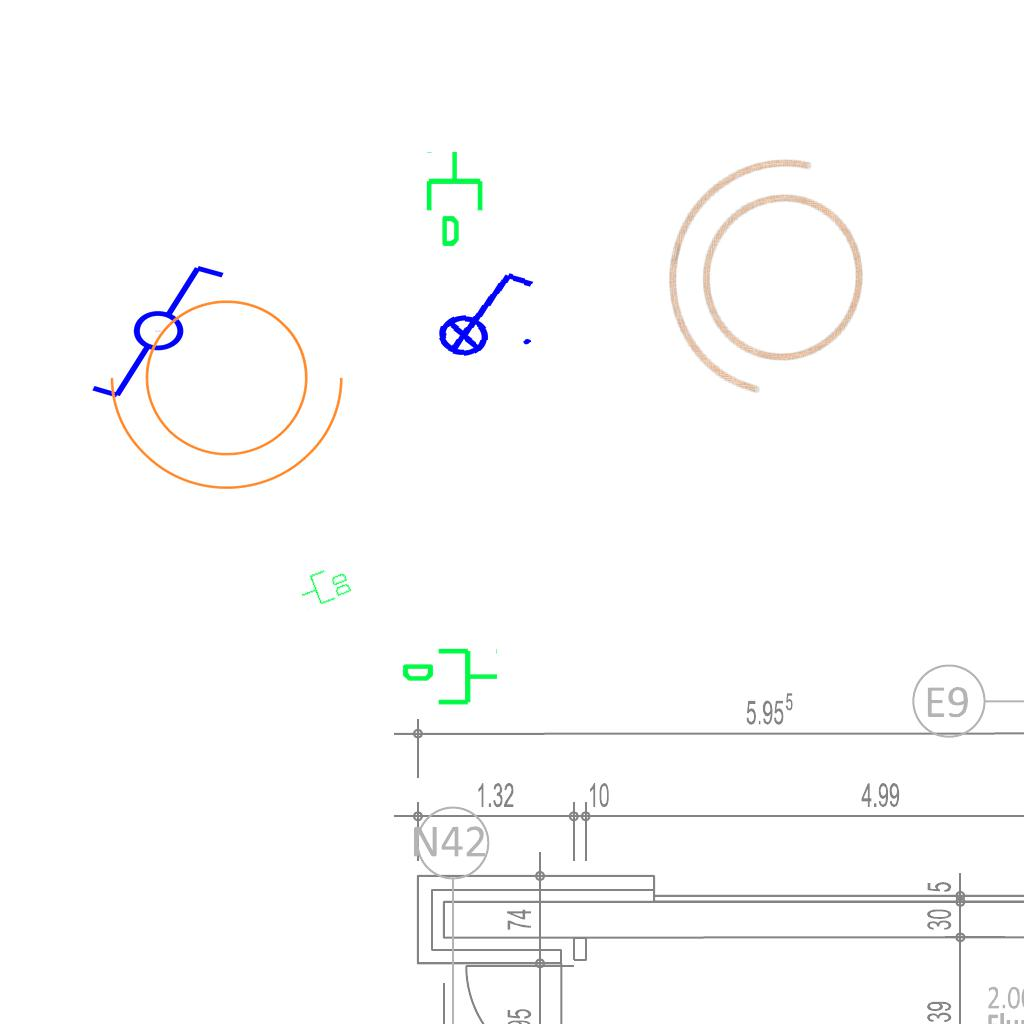Ausschalter_beleuchtet: (423, 258, 543, 364)
Datenanschluss_einfach: (400, 644, 500, 713), (422, 149, 491, 249)
Datenanschluss_zweifach: (294, 561, 355, 613)
Scheinwerfer_fuer_Alarmbeleuchtung: (632, 127, 912, 436), (101, 275, 365, 500)
Wechselschalter: (88, 261, 245, 405)
